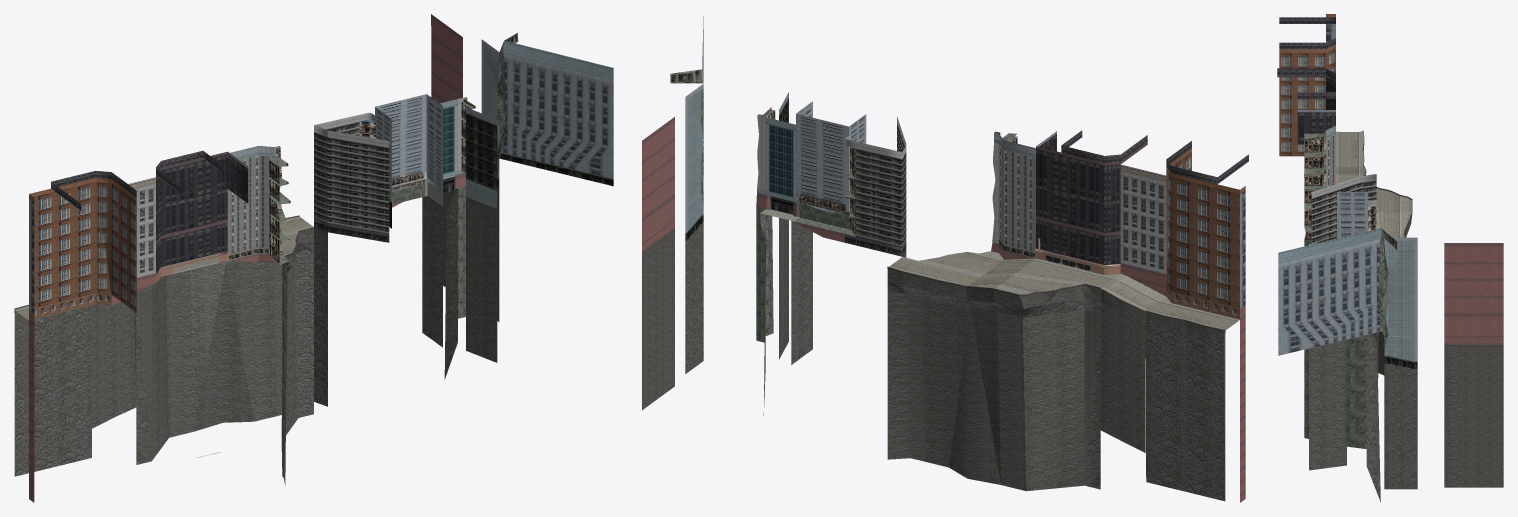
File: STG0100_OS_04.fbx
3 renders of one model, left to right at view 1: azimuth 30°, elevation 25°; view 2: azimuth 150°, elevation 25°; view 3: azimuth 270°, elevation 25°, orthographic. The views are drawn at different scales.
Visible parts, largest first — view 1: STG0100_OS_04_default; view 2: STG0100_OS_04_default; view 3: STG0100_OS_04_default.
Part boxes in pixels (left/top/right/bottom): STG0100_OS_04_default: left=14, top=14, right=613, bottom=502; STG0100_OS_04_default: left=642, top=16, right=1248, bottom=502; STG0100_OS_04_default: left=1277, top=14, right=1503, bottom=502.
Bounding box in the file's own units: 3586 × 2182 × 1365.
